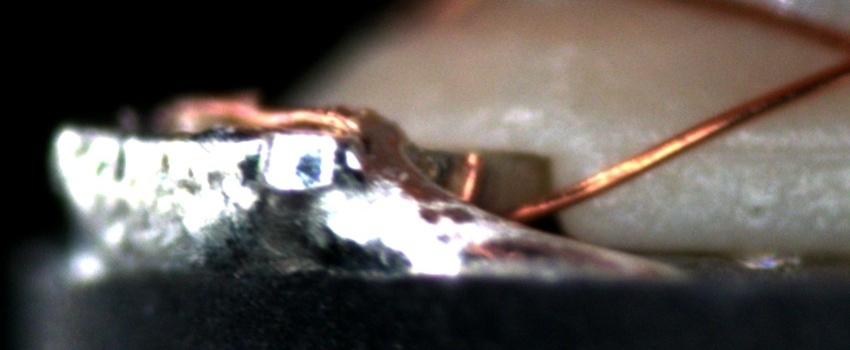DL: (624, 125, 849, 178)
TE: (166, 89, 482, 209)
